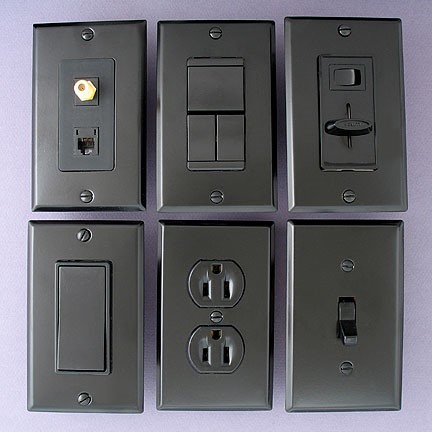outlet: (200, 326, 236, 370), (198, 259, 234, 301)
